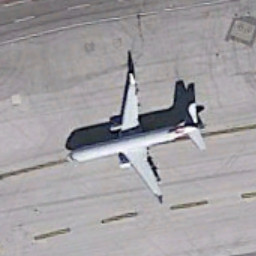Airplane: (54, 60, 213, 210)
